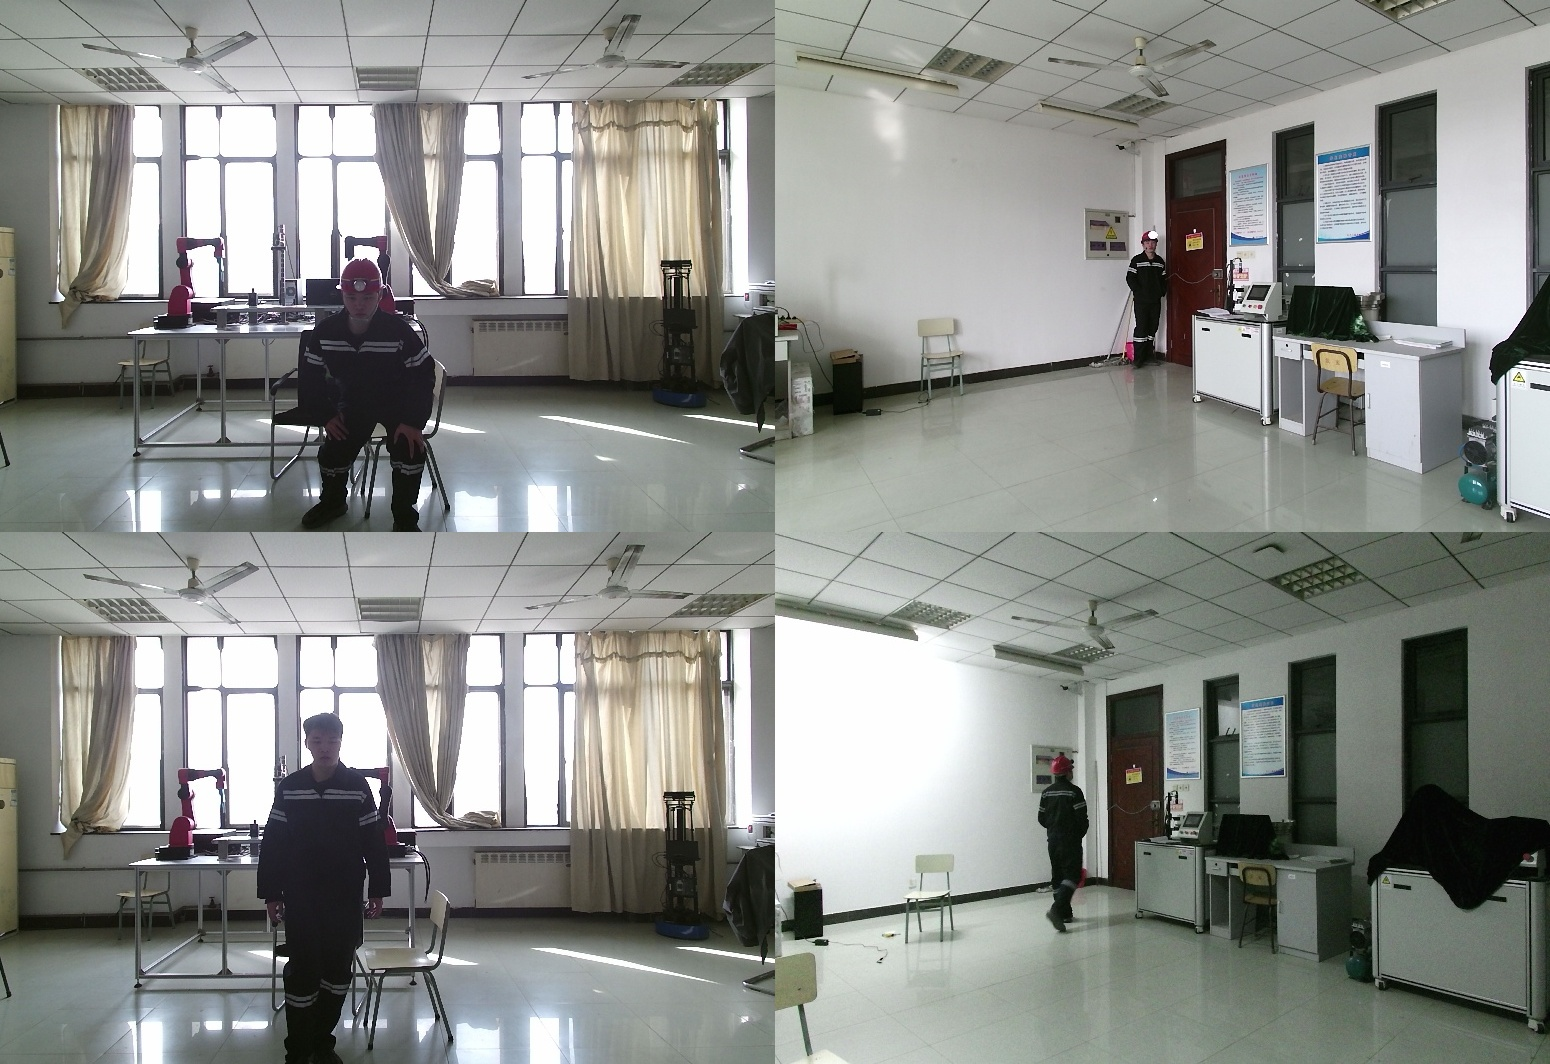person: (262, 712, 399, 1064), (301, 259, 453, 532), (1019, 757, 1091, 952), (1124, 232, 1167, 371)
